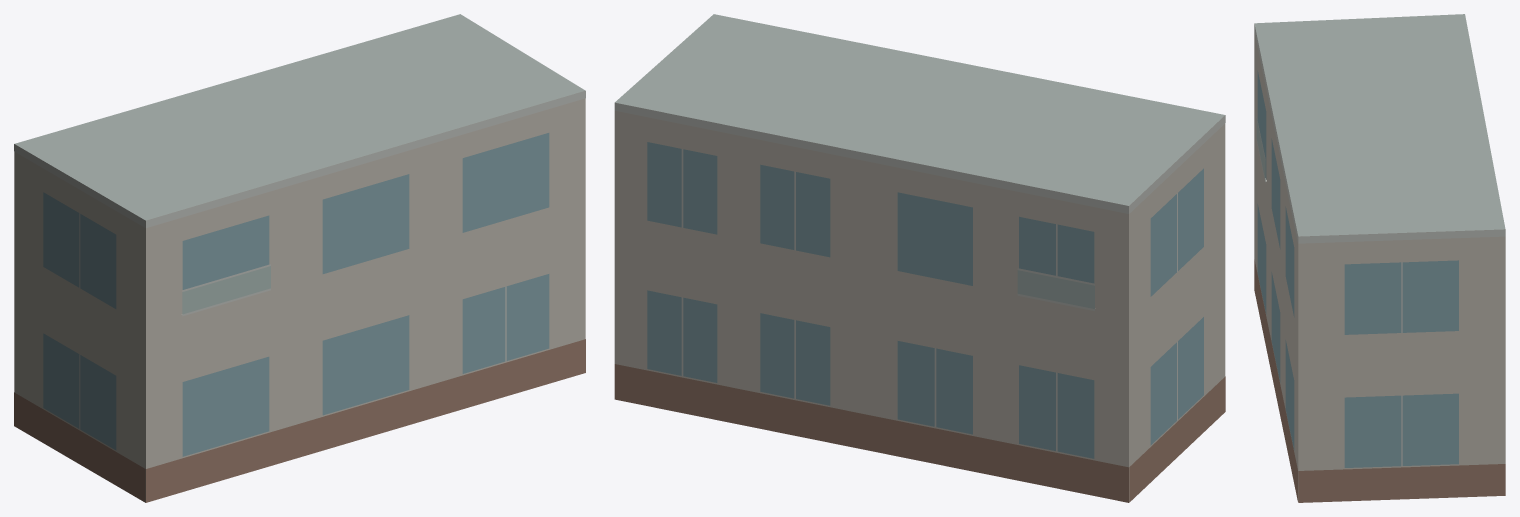
File: survey-upis-32739790.glb
3 renders of one model, left to right at view 1: azimuth 30°, elevation 25°; view 2: azimuth 150°, elevation 25°; view 3: azimuth 270°, elevation 25°, orthographic. The views are drawn at different scales.
Parts seen in each view (by area): view 1: survey-upis-32739790.tmp; view 2: survey-upis-32739790.tmp; view 3: survey-upis-32739790.tmp.
Boxes of the visible parts, x1,y1,x2,y2 form: survey-upis-32739790.tmp: [14, 14, 585, 502]; survey-upis-32739790.tmp: [614, 14, 1225, 502]; survey-upis-32739790.tmp: [1254, 14, 1505, 502].
Bounding box in the file's own units: 16.13 × 9 × 7.7.
